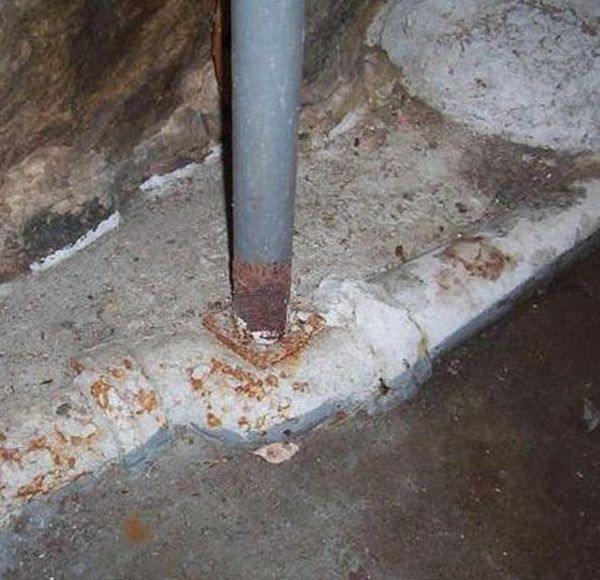Low: (192, 360, 304, 435), (61, 357, 163, 426), (3, 433, 92, 494)
Moderate: (203, 241, 328, 376)
